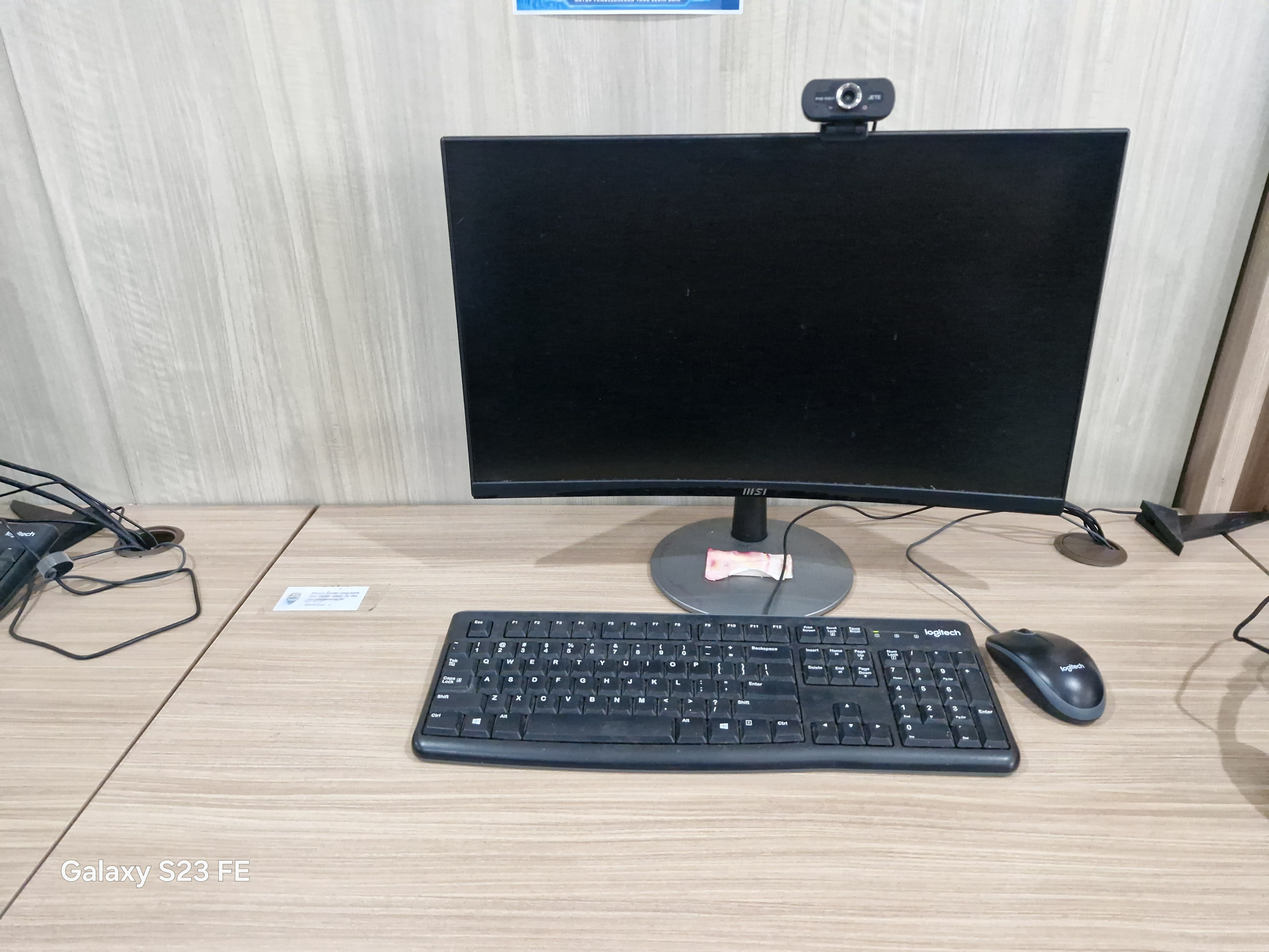keyboard: (413, 612, 1018, 773)
mouse: (986, 629, 1105, 722)
table-merged: (0, 501, 1268, 951), (704, 547, 794, 582)
tv: (443, 82, 1126, 614)
wall-wood: (0, 0, 1268, 501)
